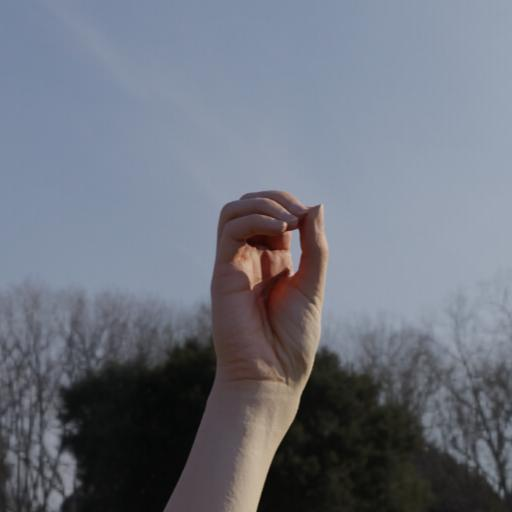O: (200, 188, 337, 362)
